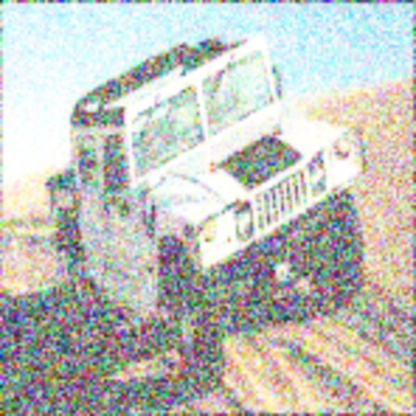Vehicle: (43, 30, 374, 401)
